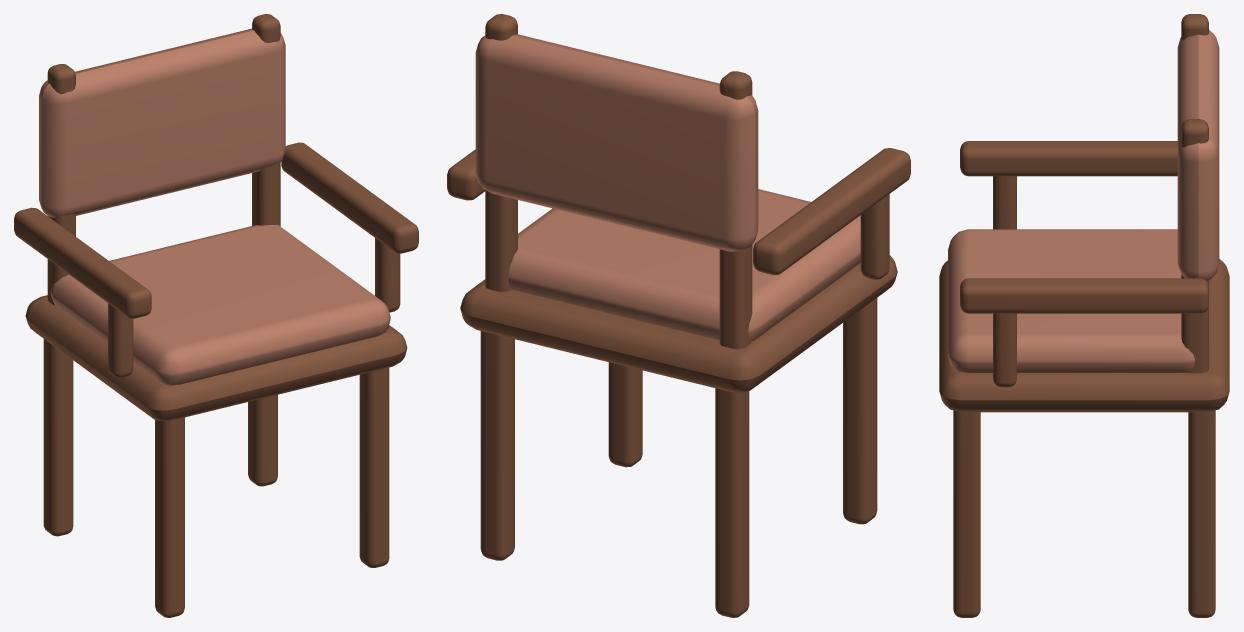
File: classic-seat.glb
The picture shows the model from 3 angles, left to right: view 1: azimuth 30°, elevation 25°; view 2: azimuth 150°, elevation 25°; view 3: azimuth 270°, elevation 25°; orthographic projection. The views are drawn at different scales.
Visible parts, largest first — view 1: Chair leg.008; view 2: Chair leg.008; view 3: Chair leg.008.
Boxes of the visible parts, bbox=[...] form: Chair leg.008: bbox=[14, 14, 418, 617]; Chair leg.008: bbox=[447, 14, 910, 617]; Chair leg.008: bbox=[939, 14, 1229, 617].
Bounding box in the file's own units: 1.03 × 1.57 × 0.84.
